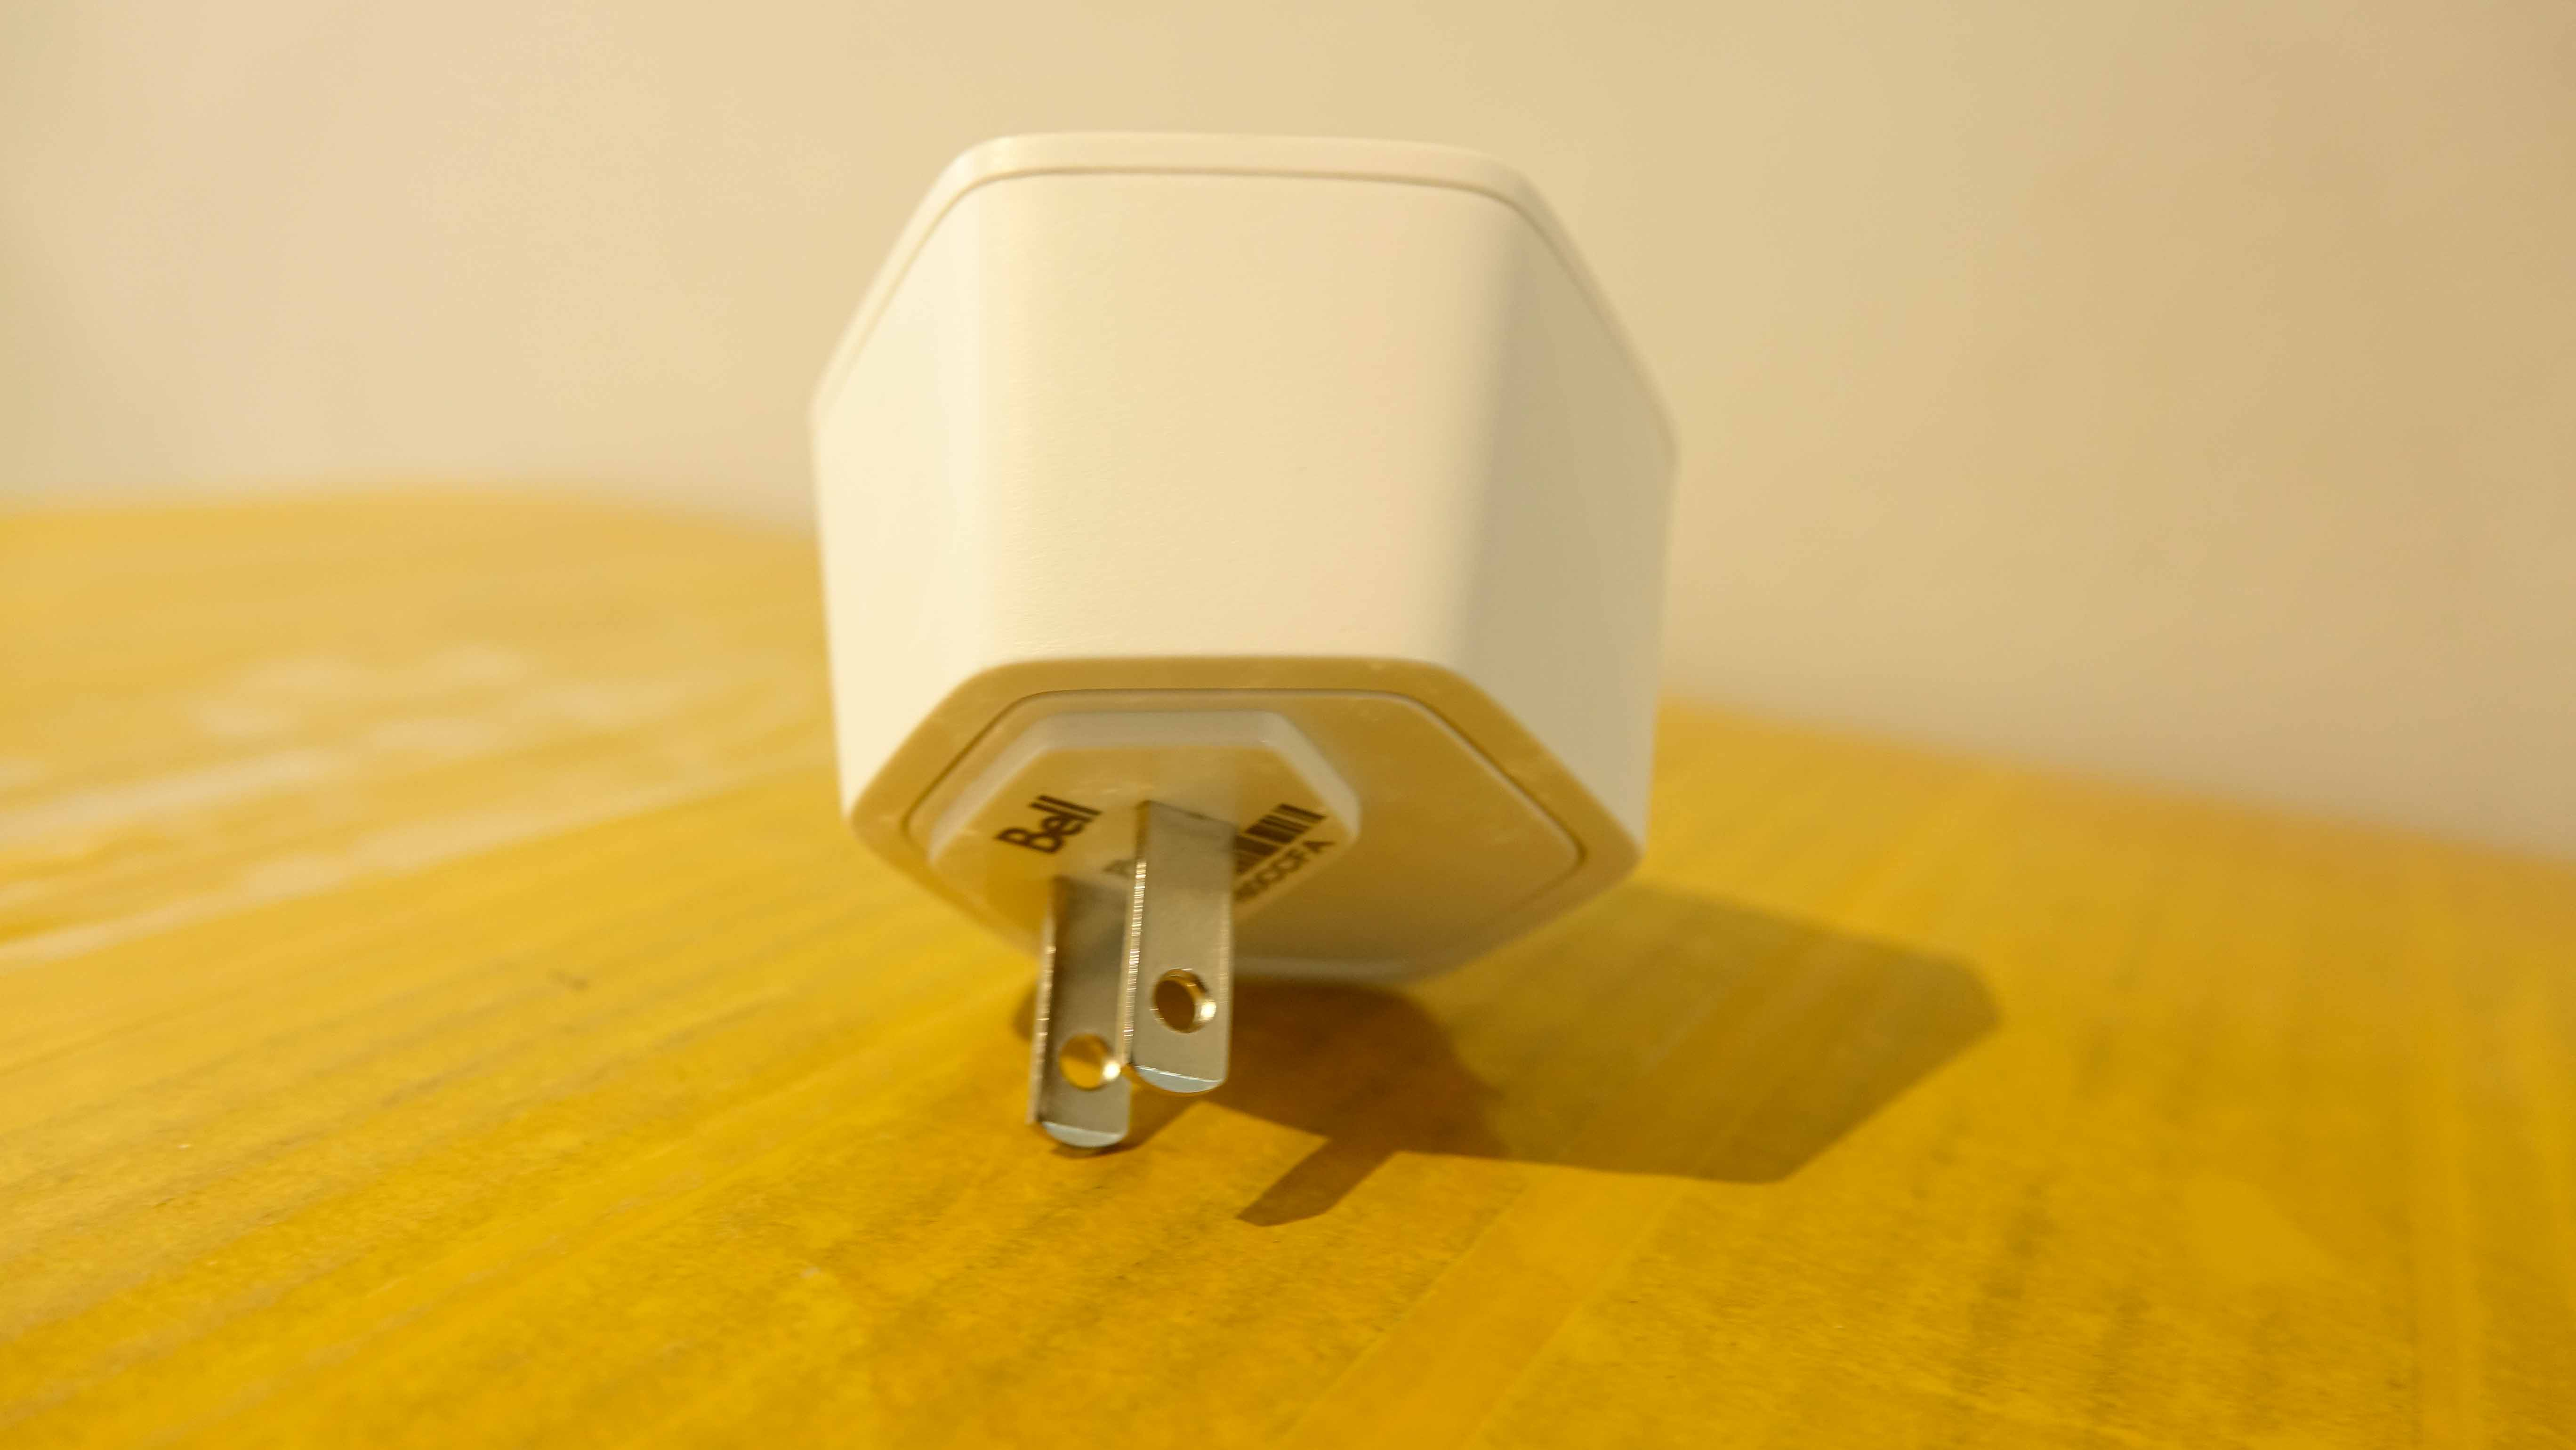pod: (787, 124, 1698, 1167)
